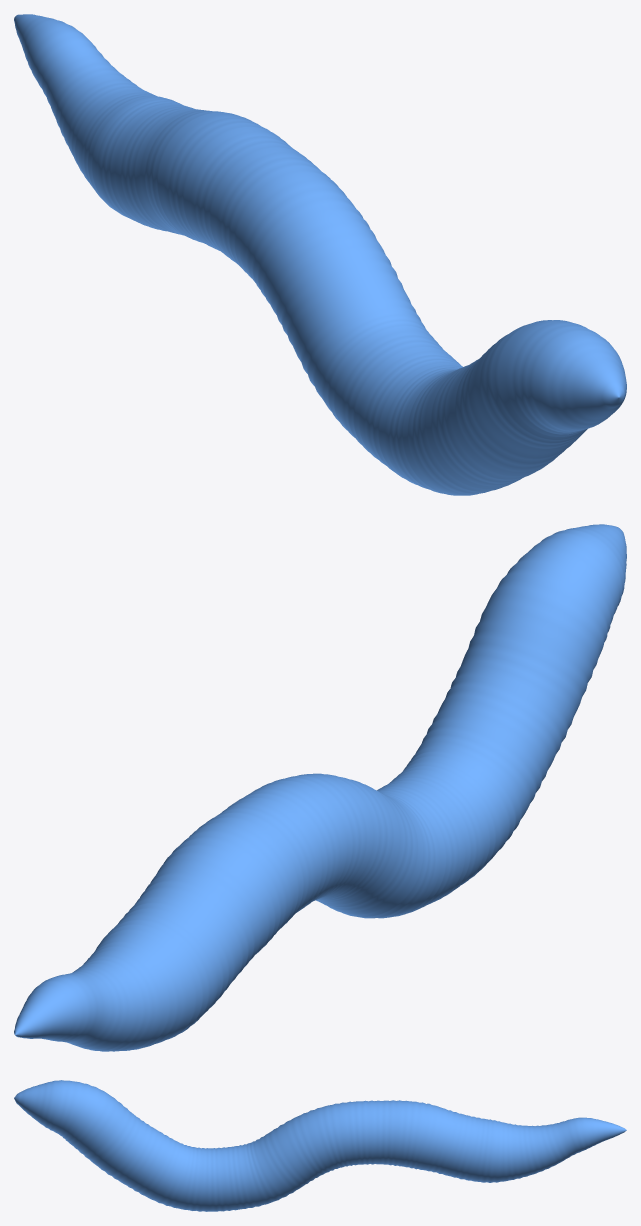
Rendered from gusano.glb.
3 views of the same model, one above another, from view 1: azimuth 30°, elevation 25°; view 2: azimuth 150°, elevation 25°; view 3: azimuth 270°, elevation 25° (orthographic). The views are drawn at different scales.
Parts seen in each view (by area): view 1: cuerpo; view 2: cuerpo; view 3: cuerpo.
Part boxes in pixels (x1,y1,x2,y2): cuerpo: [14, 14, 626, 495]; cuerpo: [14, 524, 626, 1051]; cuerpo: [14, 1080, 626, 1211].
Size of the model in its own units: 0.8484 by 1.76 by 7.76.
